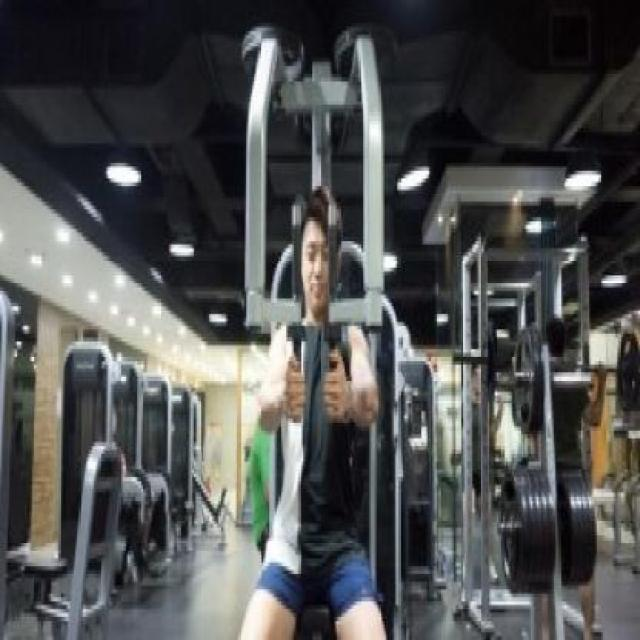chest fly machine: (221, 12, 397, 640)
